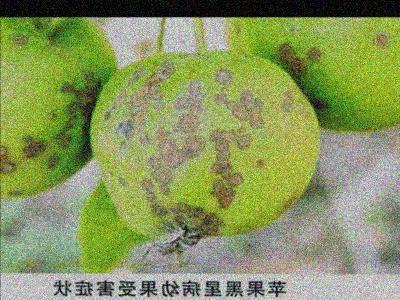rotten apple: (88, 53, 322, 244), (0, 18, 120, 200), (227, 18, 399, 133)
